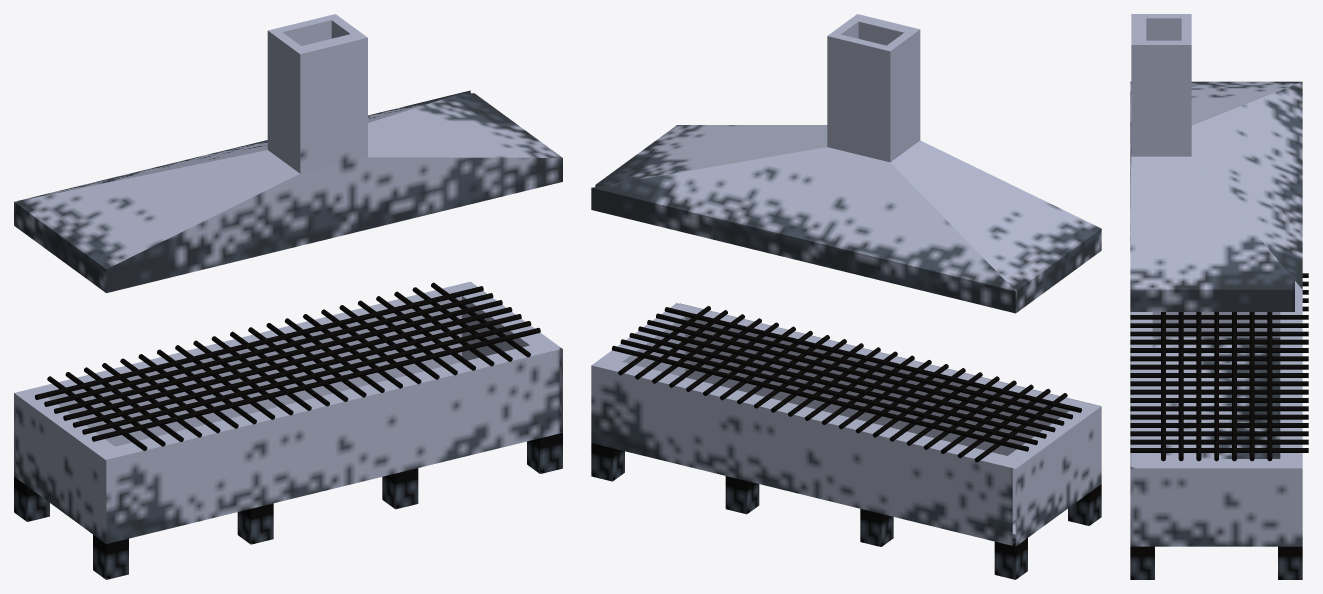
The model's file is Grill.fbx.
3 renders of one model, left to right at view 1: azimuth 30°, elevation 25°; view 2: azimuth 150°, elevation 25°; view 3: azimuth 270°, elevation 25°, orthographic. The views are drawn at different scales.
Visible parts, largest first — view 1: Cube.024, Cube.026, BézierCurve.003, BézierCurve.002, Cube.025; view 2: Cube.026, Cube.024, BézierCurve.003, BézierCurve.002, Cube.025; view 3: Cube.026, Cube.024, BézierCurve.002, BézierCurve.003, Cube.025.
Boxes of the visible parts, x1,y1,x2,y2 form: Cube.024: (14, 281, 562, 543); Cube.026: (14, 14, 562, 292); BézierCurve.003: (35, 286, 540, 441); BézierCurve.002: (47, 282, 530, 450); Cube.025: (14, 431, 562, 579); Cube.026: (591, 14, 1101, 313); Cube.024: (591, 303, 1101, 546); BézierCurve.003: (612, 307, 1081, 451); BézierCurve.002: (618, 306, 1067, 462); Cube.025: (591, 443, 1101, 579); Cube.026: (1130, 14, 1302, 311); Cube.024: (1130, 312, 1302, 546); BézierCurve.002: (1130, 273, 1308, 452); BézierCurve.003: (1161, 312, 1272, 461); Cube.025: (1130, 546, 1302, 579).
Size of the model in its own units: 400 by 400 by 145.
